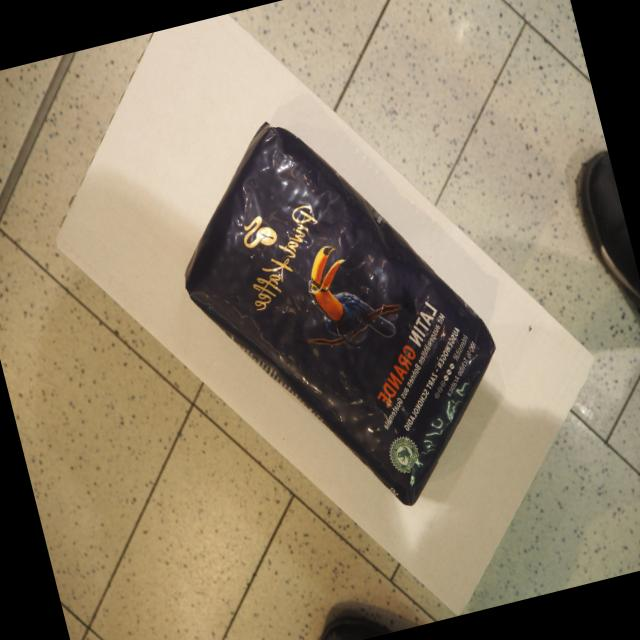LG Bohne: (171, 97, 508, 519)
